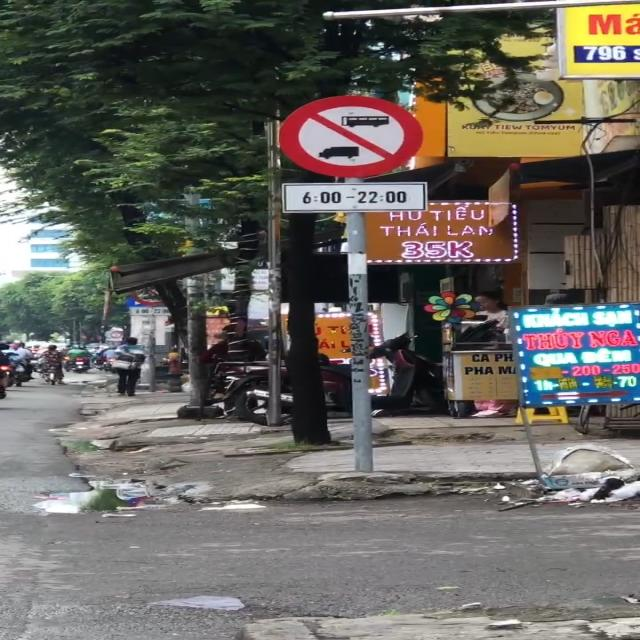Bien bao cam xe oto khach va xe oto tai: (272, 88, 428, 182)
